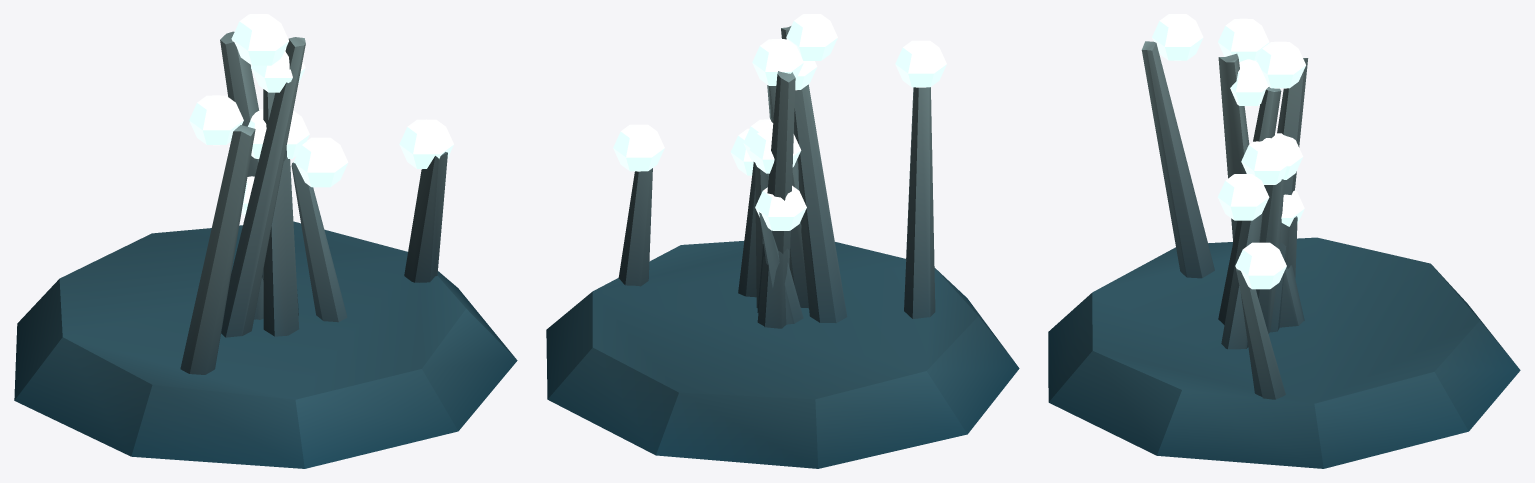
File: ruin_coral_cluster.glb
3 views of the same model, side by side, from view 1: azimuth 30°, elevation 25°; view 2: azimuth 150°, elevation 25°; view 3: azimuth 270°, elevation 25° (orthographic). The views are drawn at different scales.
Parts seen in each view (by area): view 1: ruin_coral_cluster_stone, ruin_coral_cluster_bio; view 2: ruin_coral_cluster_stone, ruin_coral_cluster_bio; view 3: ruin_coral_cluster_stone, ruin_coral_cluster_bio.
Part boxes in pixels (bbox=[...]): ruin_coral_cluster_stone: bbox=[14, 31, 517, 468]; ruin_coral_cluster_bio: bbox=[189, 14, 453, 215]; ruin_coral_cluster_stone: bbox=[546, 26, 1019, 468]; ruin_coral_cluster_bio: bbox=[613, 14, 946, 230]; ruin_coral_cluster_stone: bbox=[1048, 41, 1520, 468]; ruin_coral_cluster_bio: bbox=[1152, 14, 1305, 289].
Size of the model in its own units: 3.18 by 2.5 by 3.1.
